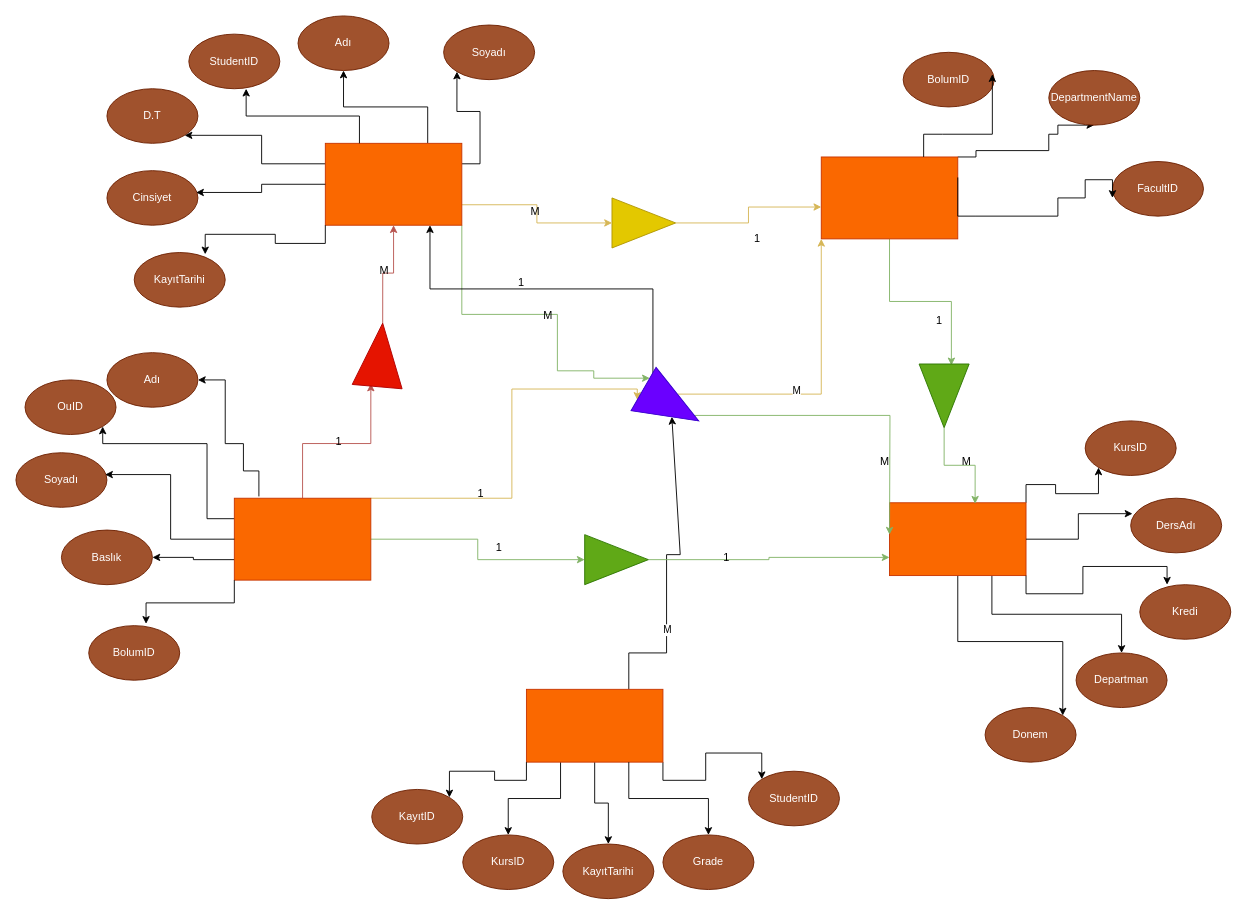
Some shapes in this 1247 by 915 pixel diagram are drawn without their labels. Each missing label, with the centre of its shape:
"Bolumler" belongs at point 889,197.
"Dersler" belongs at point 957,539.
"Kayıtlar" belongs at point 594,725.
"Ogrenciler" belongs at point 393,183.
"OgretimUyeleri" belongs at point 302,538.
